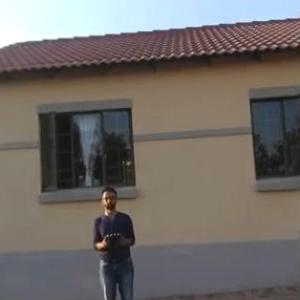follow: (90, 180, 142, 299)
